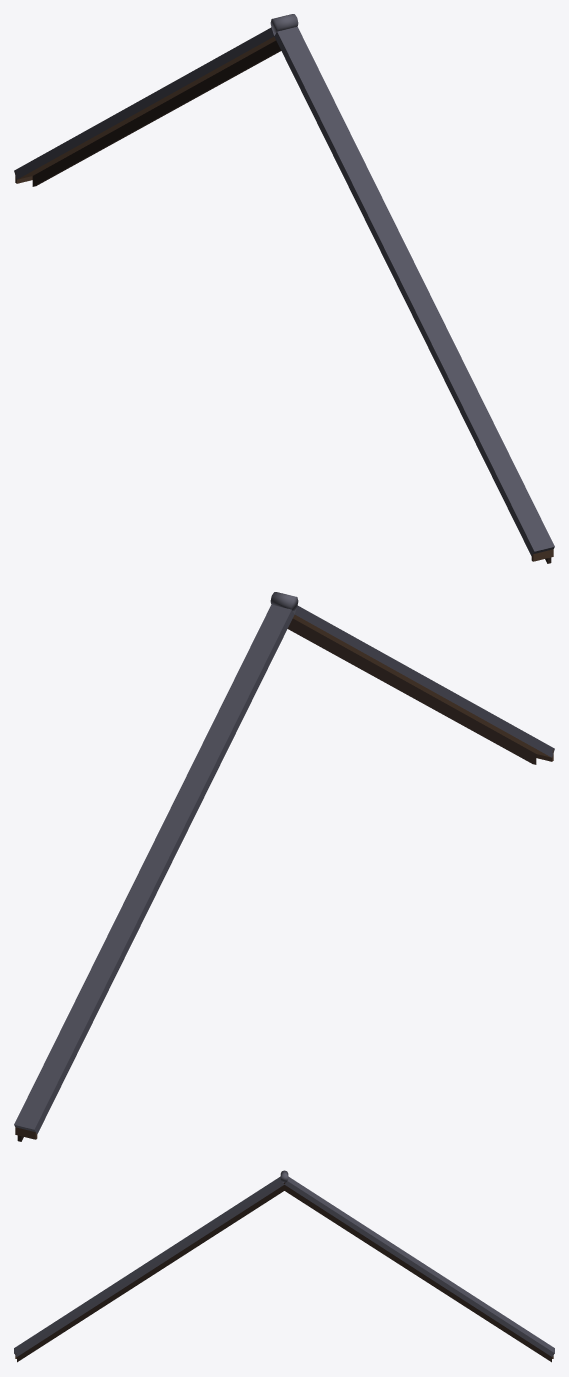
Rendered from kit_timber_slate_w9_end.glb.
The picture shows the model from 3 angles, top to bottom: view 1: azimuth 30°, elevation 25°; view 2: azimuth 150°, elevation 25°; view 3: azimuth 270°, elevation 25°; orthographic projection. The views are drawn at different scales.
Visible parts, largest first — view 1: kit_timber_slate_w9_end; view 2: kit_timber_slate_w9_end; view 3: kit_timber_slate_w9_end.
Part boxes in pixels (<box>): kit_timber_slate_w9_end: <box>14,14,554,563</box>; kit_timber_slate_w9_end: <box>14,592,554,1141</box>; kit_timber_slate_w9_end: <box>14,1170,554,1362</box>.
Bounding box in the file's own units: 0.22 × 3.71 × 9.7.
